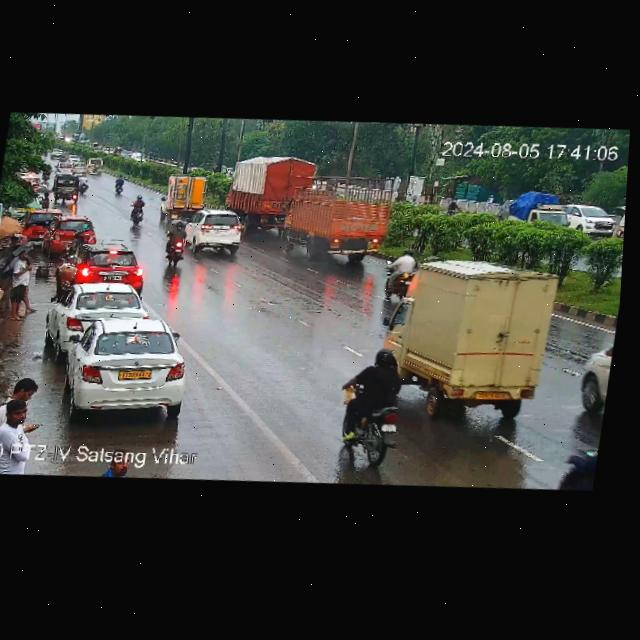car: (58, 309, 197, 423), (46, 274, 148, 347), (64, 237, 153, 293), (182, 205, 250, 260), (159, 169, 217, 226), (557, 194, 619, 242), (577, 337, 614, 408), (51, 211, 99, 246), (52, 170, 83, 202), (85, 156, 106, 177), (56, 159, 73, 174), (72, 162, 86, 175), (50, 148, 61, 158), (68, 154, 81, 162), (61, 150, 70, 161)
motorcycle: (334, 346, 419, 439), (548, 431, 600, 492), (378, 247, 423, 298), (163, 214, 194, 270), (125, 192, 150, 226), (443, 195, 467, 219), (443, 197, 465, 218), (73, 173, 91, 196), (114, 172, 131, 195), (410, 194, 420, 205)
person: (0, 243, 44, 321), (0, 396, 37, 439), (0, 375, 44, 406), (20, 219, 37, 243), (39, 190, 51, 210)
truck: (364, 236, 569, 423), (284, 189, 404, 271), (221, 148, 321, 241), (499, 195, 568, 231), (71, 131, 89, 145)
